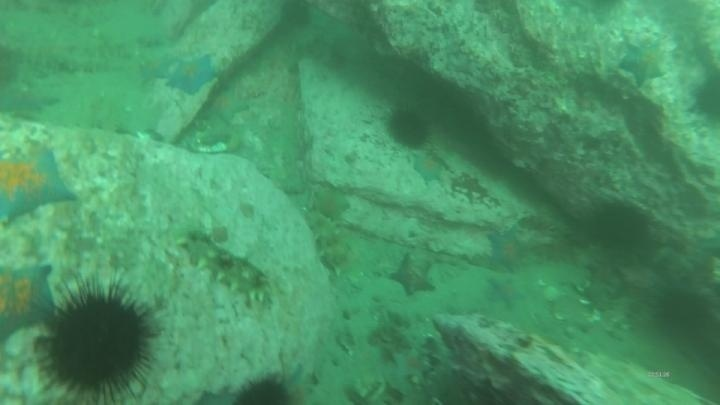echinus: (37, 279, 160, 402), (584, 198, 652, 254), (653, 286, 712, 339), (385, 105, 433, 150), (233, 374, 293, 405), (690, 69, 720, 125), (278, 1, 316, 31)
holothurian: (175, 226, 275, 309), (302, 207, 351, 274)
starfish: (0, 147, 78, 227), (0, 260, 59, 344), (617, 38, 669, 87), (164, 52, 219, 97), (387, 252, 438, 299), (484, 225, 530, 273), (2, 85, 62, 120), (274, 361, 319, 405), (206, 87, 251, 125), (484, 274, 530, 311), (310, 187, 352, 221), (136, 52, 176, 86), (409, 151, 447, 185)
